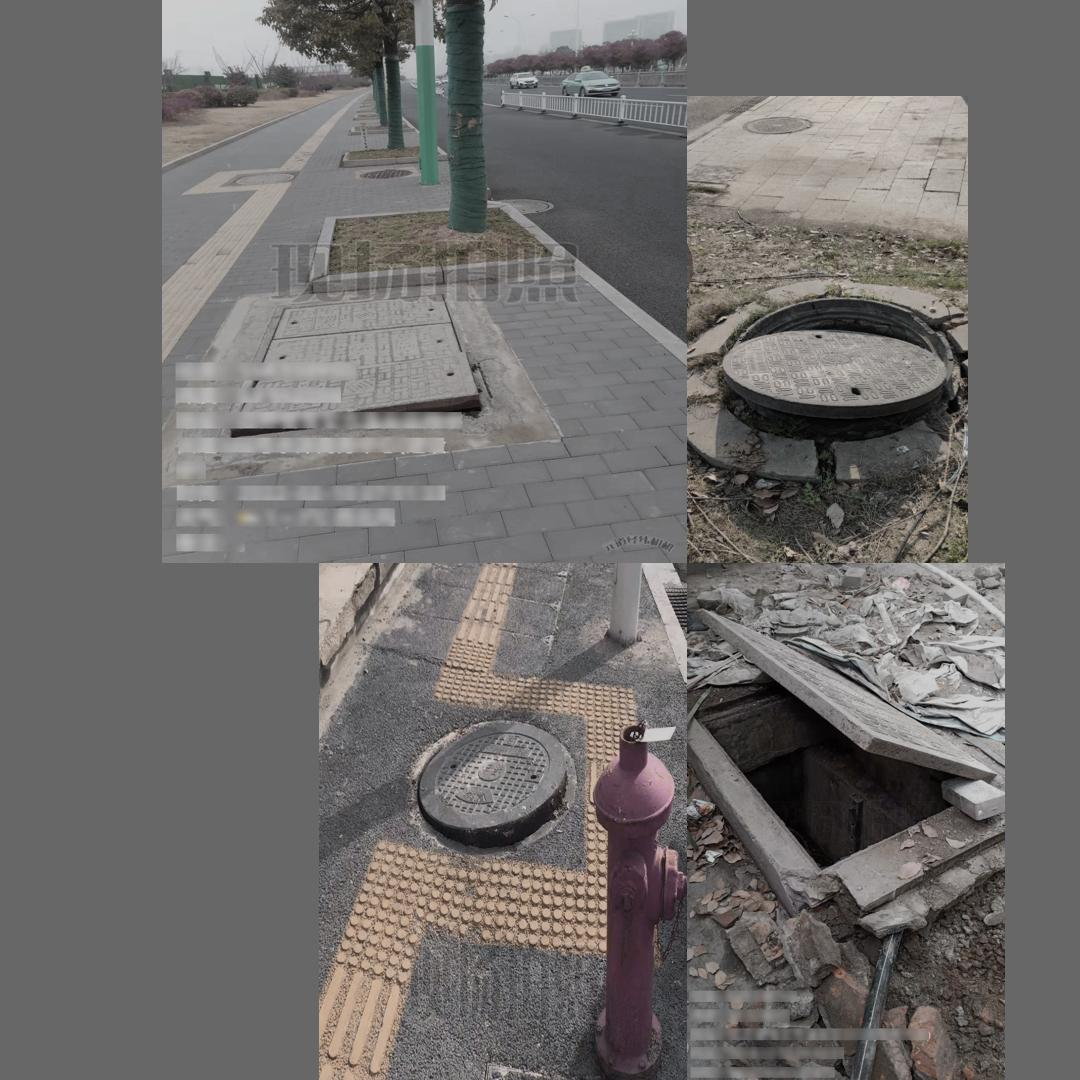good: (495, 196, 554, 213), (233, 172, 295, 184), (357, 168, 413, 179)
uncovered: (687, 604, 1005, 928), (222, 292, 496, 442), (717, 294, 951, 417), (413, 706, 585, 858)
